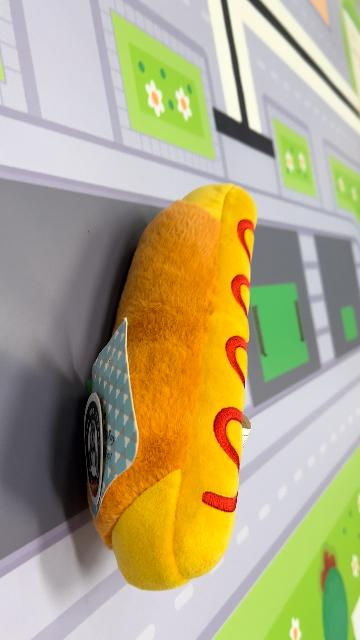hotdog: (82, 182, 260, 592)
